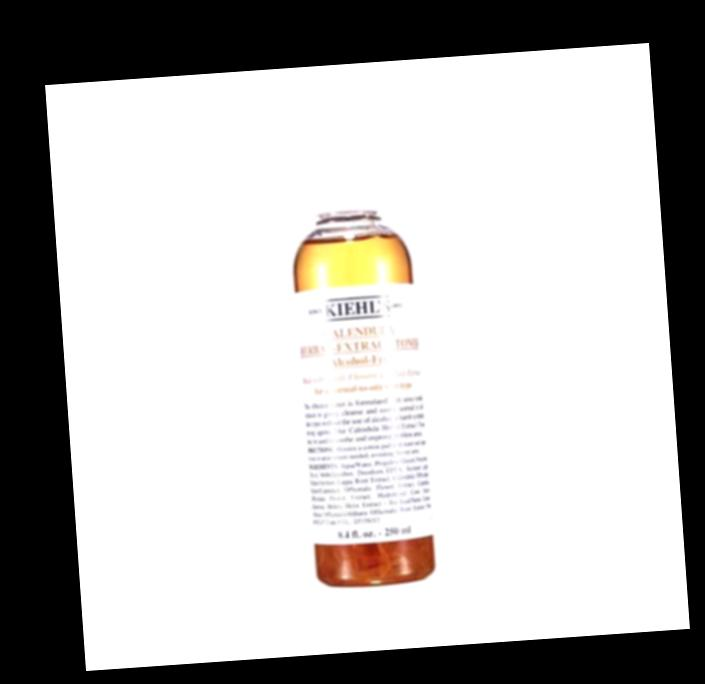cosmetic: (286, 129, 435, 591)
